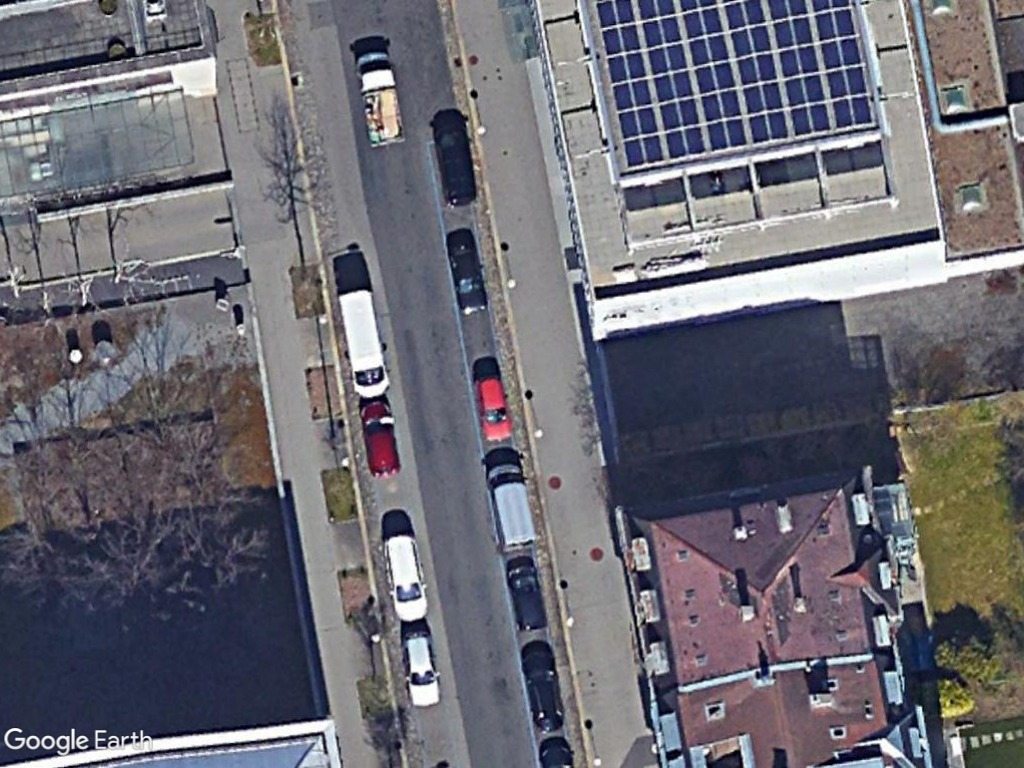car: (384, 530, 431, 622), (400, 626, 444, 710), (357, 397, 401, 478), (449, 242, 491, 316), (473, 370, 515, 443)
others: (355, 50, 407, 150)
van: (333, 283, 390, 398), (486, 459, 539, 554)
